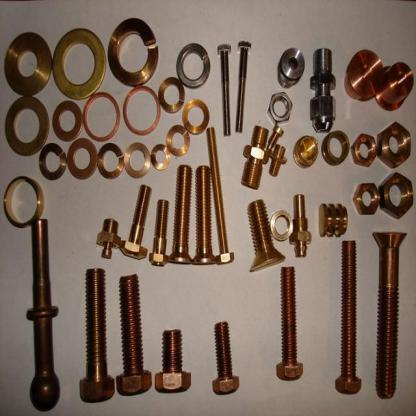FOD: (370, 229, 408, 402), (77, 262, 115, 406), (116, 268, 154, 399), (334, 236, 362, 398), (206, 125, 235, 266), (51, 23, 107, 96), (272, 264, 306, 383), (107, 14, 158, 86), (2, 29, 53, 99), (244, 196, 286, 275), (3, 96, 50, 159), (154, 324, 194, 396), (168, 162, 194, 270), (119, 182, 152, 258), (194, 162, 216, 270), (210, 317, 240, 396), (175, 40, 212, 90), (377, 119, 414, 168), (380, 168, 414, 220), (235, 38, 253, 134), (215, 42, 232, 135), (52, 99, 82, 144), (149, 198, 168, 266), (67, 138, 96, 179), (352, 178, 382, 216), (38, 143, 68, 181), (350, 130, 377, 168), (266, 90, 292, 127)
